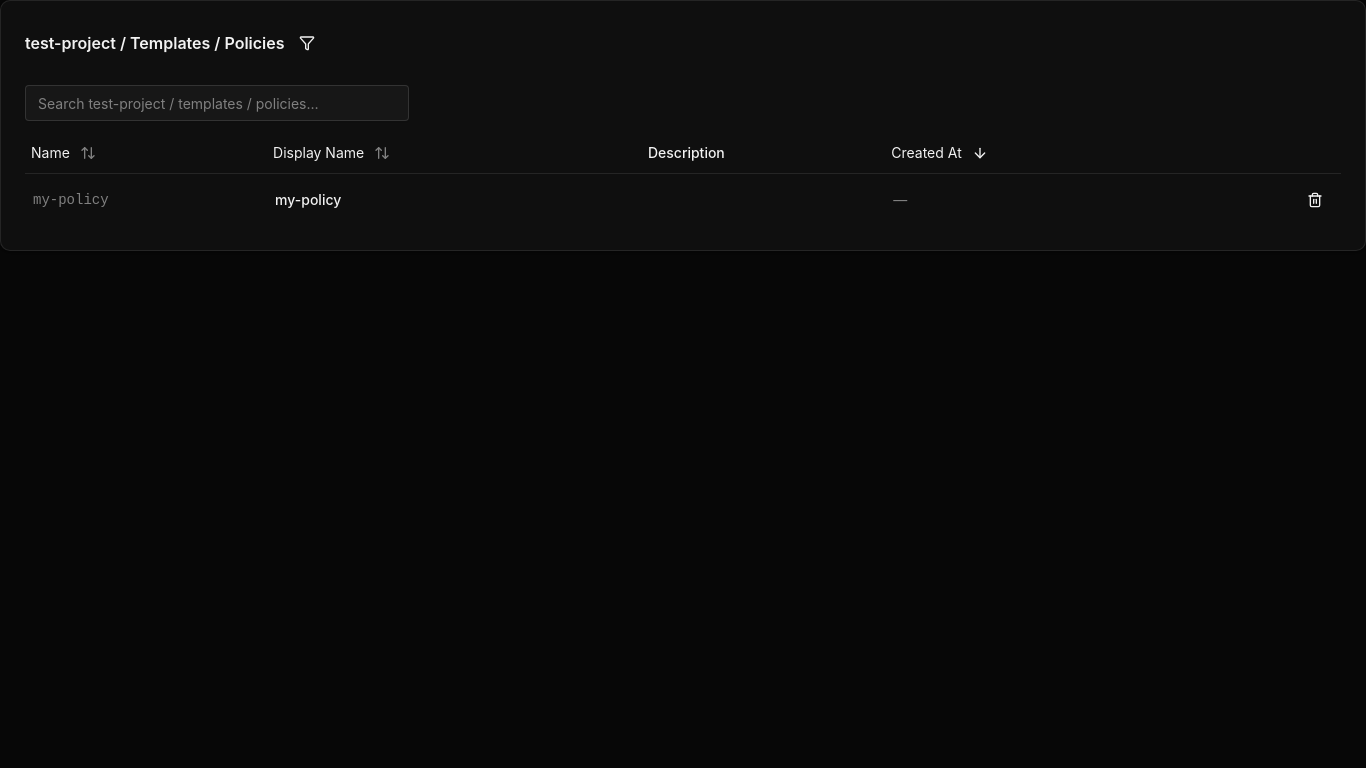
Test: TemplatePoliciesIndexPage (HOL-1009) › delete button opens ConfirmDeleteDialog
What coordinates should you click on to do the following:
click the button named "delete my-policy"
I would click on:
 (1315, 200)
Its box is [1297,182,1333,218].
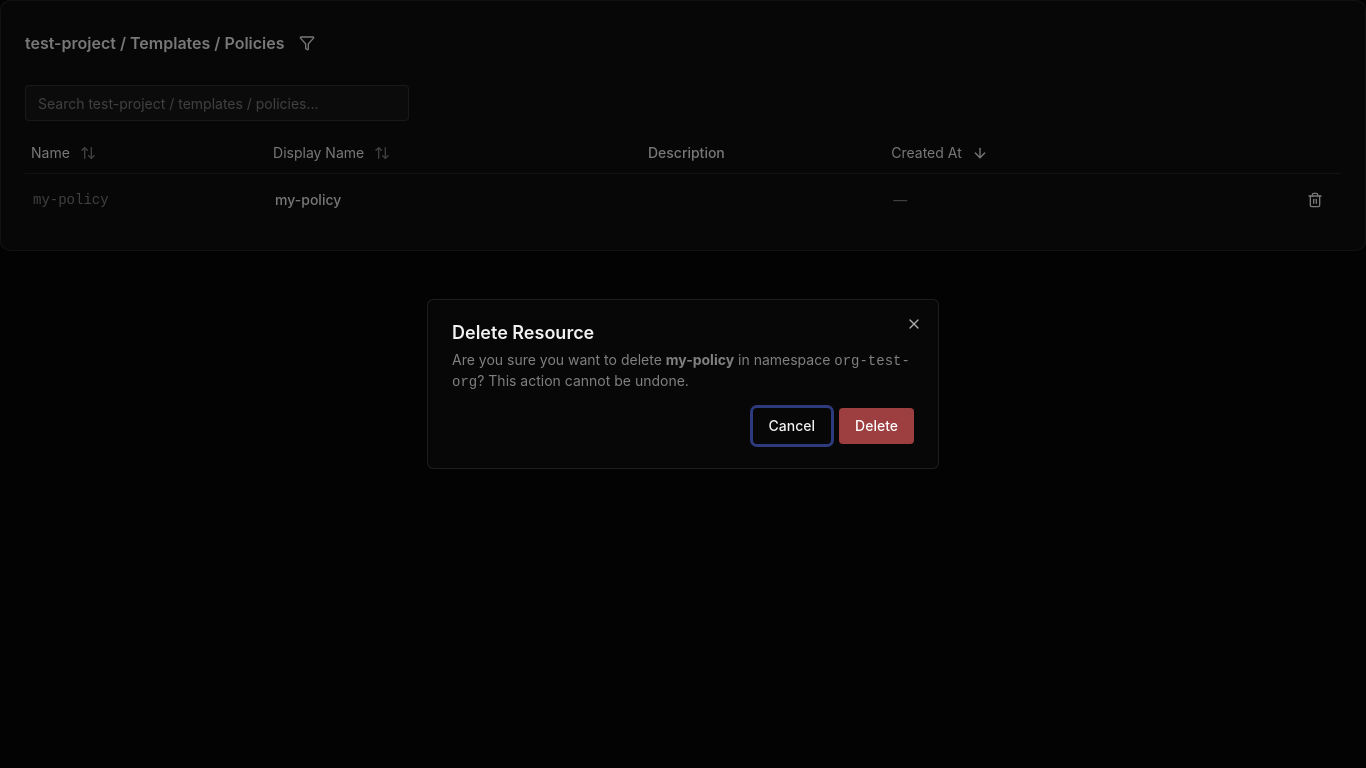
Expected: the dialog is shown, [427,299,939,469]
